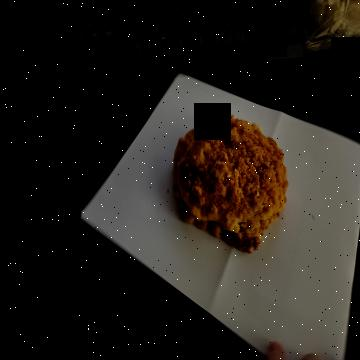soboru_bread: (176, 114, 288, 257)
